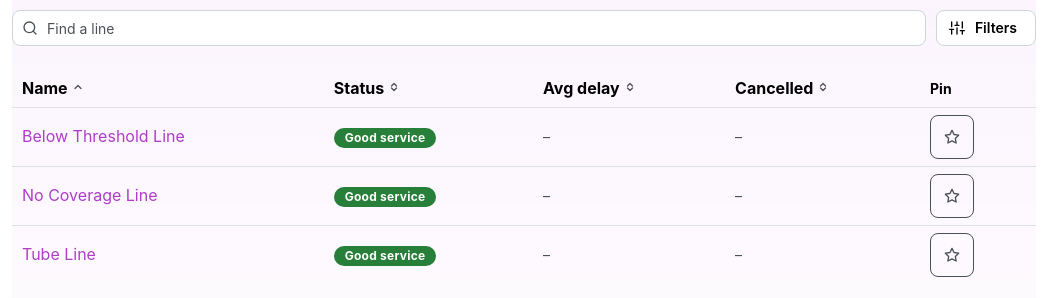
Scenario: AllLinesTable dash tooltip › shows the TfL copy on hover, not the below-threshold copy, even though sampleAvailability says below-threshold
This screenshot has width=1048, height=298.
// The tooltip wraps the cell text, whose en dash is an aria-hidden span.
Hover over the 5th element showing "–" at x=568, y=264, box [542,246,594,282]
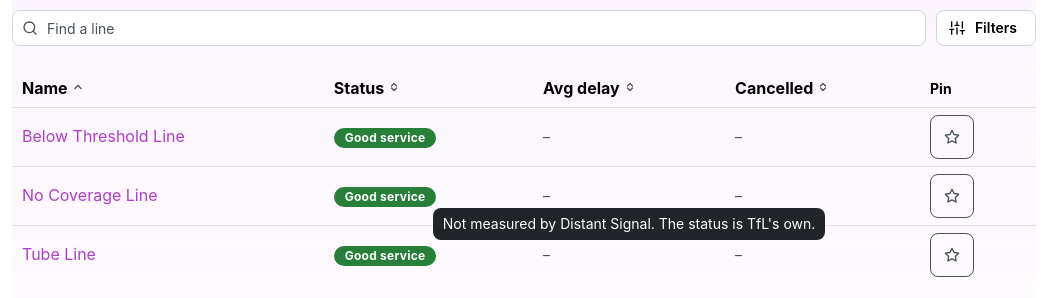
Now the tooltip reads "Not measured by Distant Signal. The status is TfL's own.", box [443,215,815,232]
